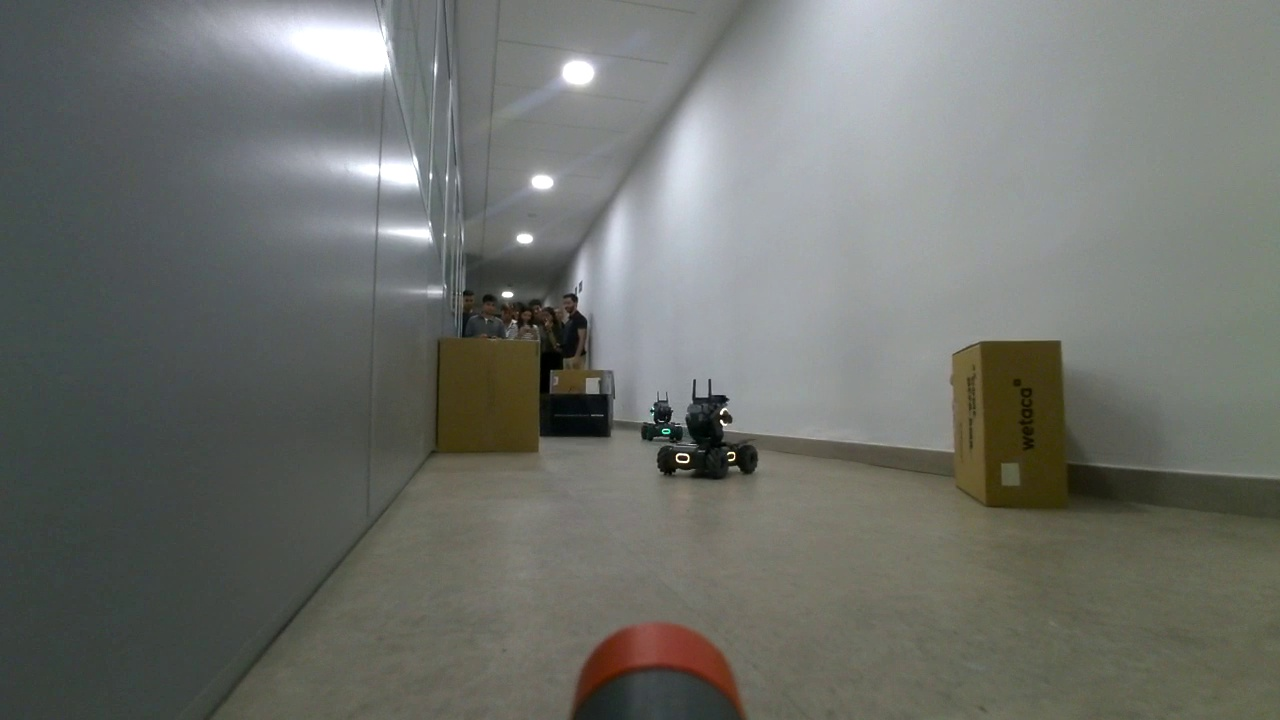robot: (656, 390, 760, 483), (642, 403, 684, 445)
